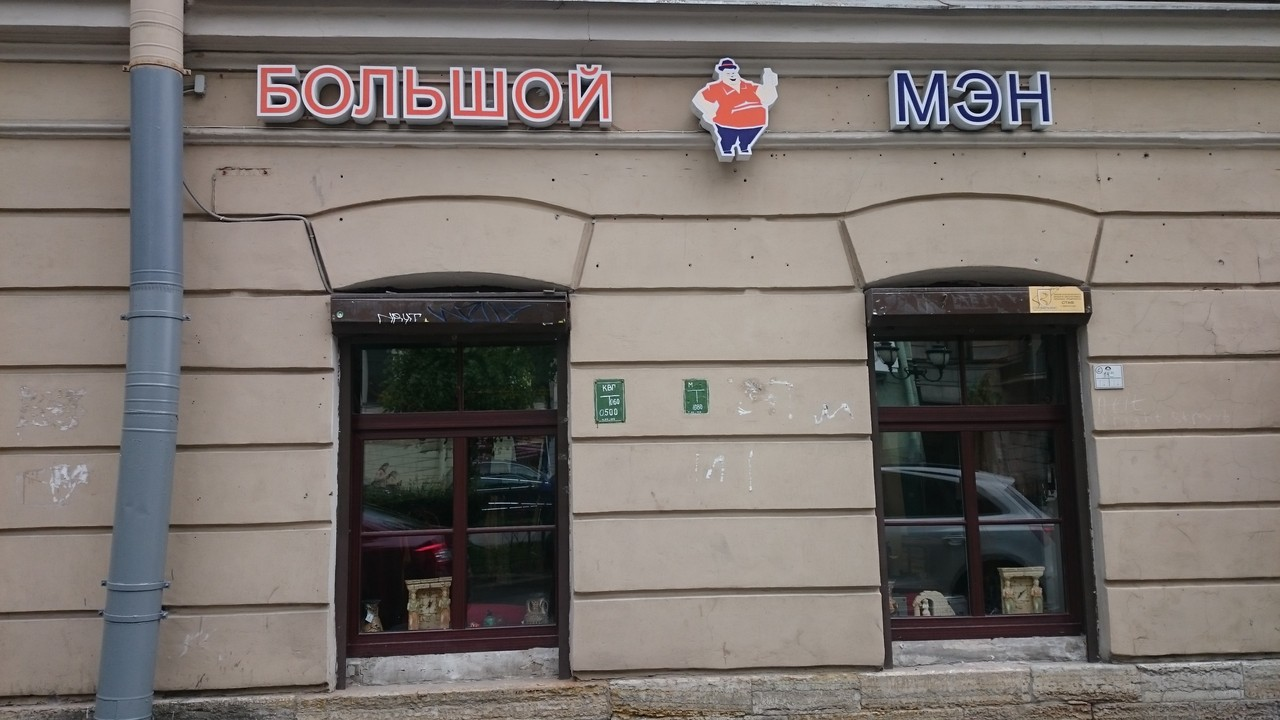signboard: (250, 54, 1054, 168)
window: (339, 294, 563, 668), (868, 272, 1094, 641)
